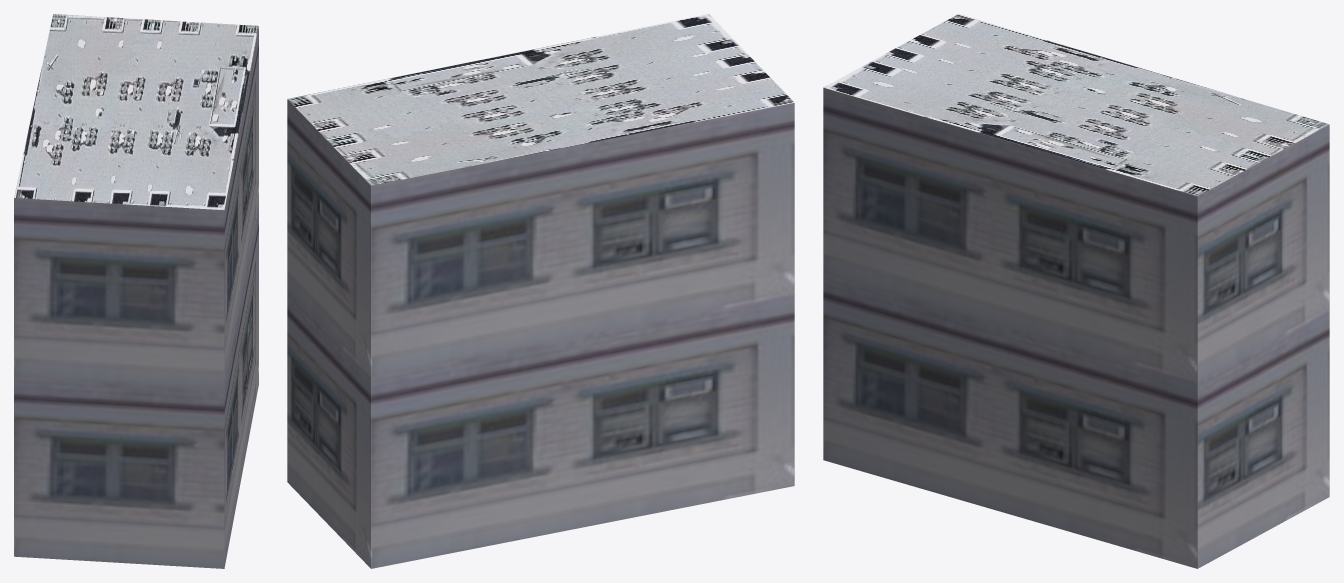
The model's file is ResTex__3972.fbx.
The picture shows the model from 3 angles, left to right: view 1: azimuth 30°, elevation 25°; view 2: azimuth 150°, elevation 25°; view 3: azimuth 270°, elevation 25°; orthographic projection. The views are drawn at different scales.
Visible parts, largest first — view 1: CityEngineMaterial_1_m, CityEngineMaterial_8_m; view 2: CityEngineMaterial_1_m, CityEngineMaterial_8_m; view 3: CityEngineMaterial_1_m, CityEngineMaterial_8_m.
Part boxes in pixels (left/top/right/bottom): CityEngineMaterial_1_m: left=14, top=26, right=258, bottom=568; CityEngineMaterial_8_m: left=14, top=14, right=258, bottom=210; CityEngineMaterial_1_m: left=287, top=99, right=794, bottom=568; CityEngineMaterial_8_m: left=287, top=14, right=794, bottom=185; CityEngineMaterial_1_m: left=823, top=87, right=1329, bottom=568; CityEngineMaterial_8_m: left=823, top=14, right=1329, bottom=196.
Bounding box in the file's own units: 6.3 × 6 × 7.39.
Materials: 2 (2 with a texture image).
